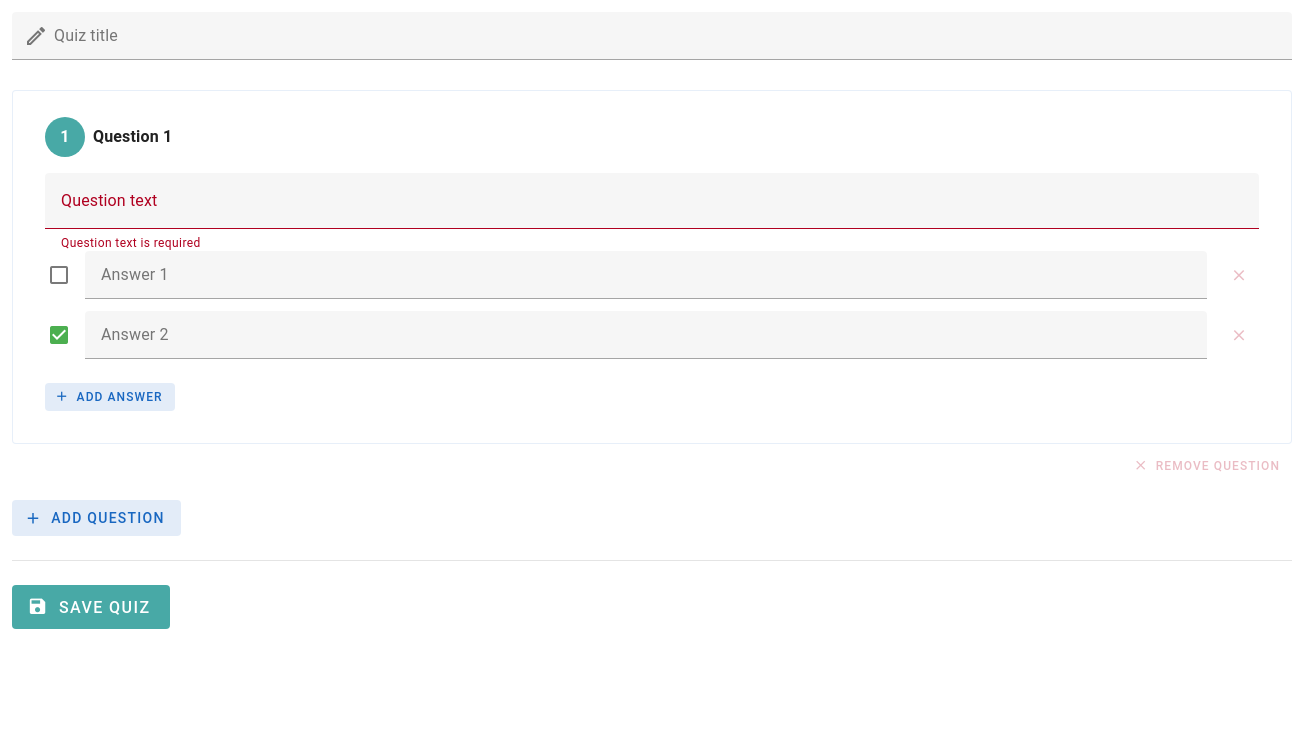
Test: QuizForm › form validation › should show an error when title is empty and save is attempted
Step 1. Click the button with test id "save-btn" → (91, 607), box [12,585,170,629]
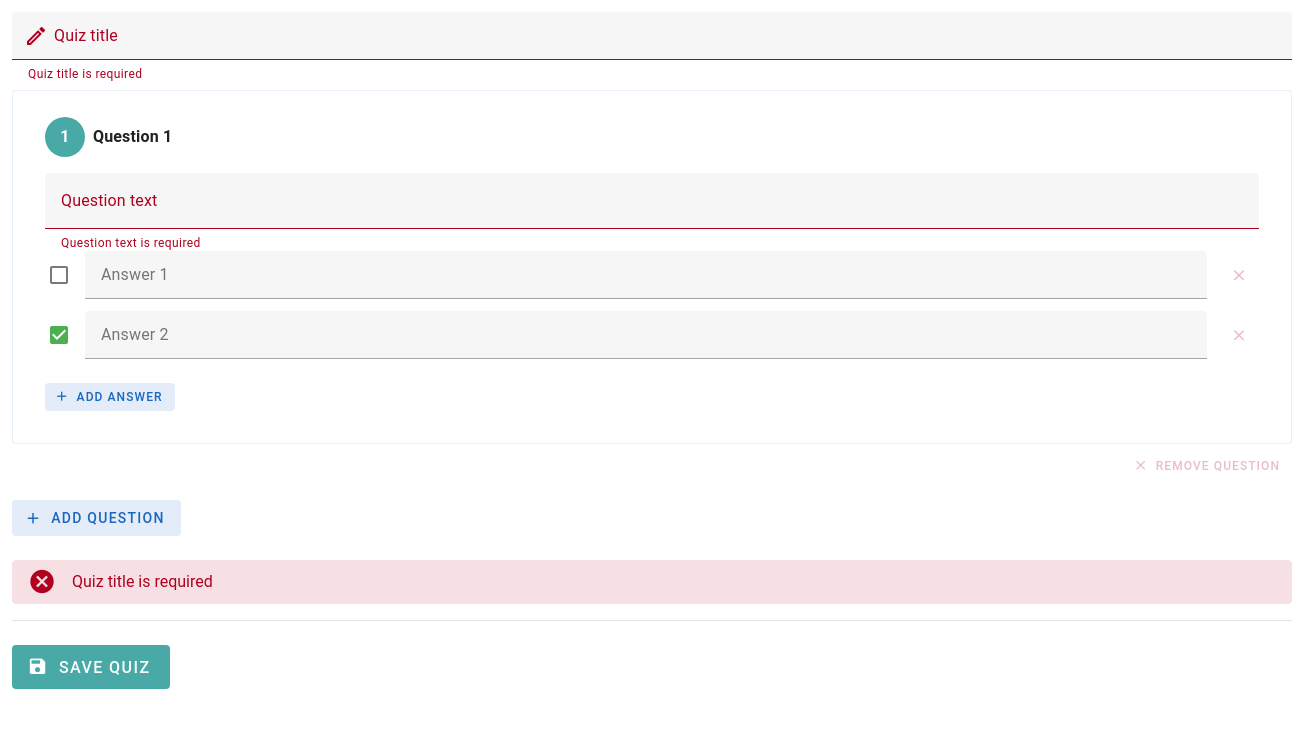
Expected: the text "Quiz title is required" is shown, [28,67,142,81]
